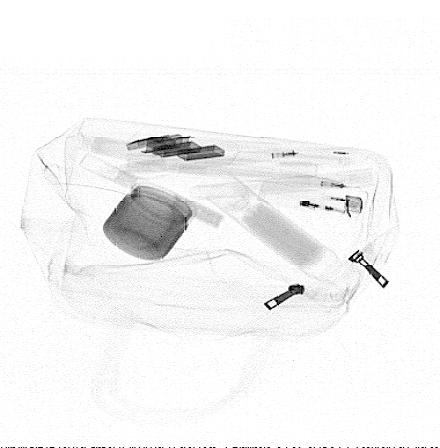Lighter: (256, 181, 364, 222)
